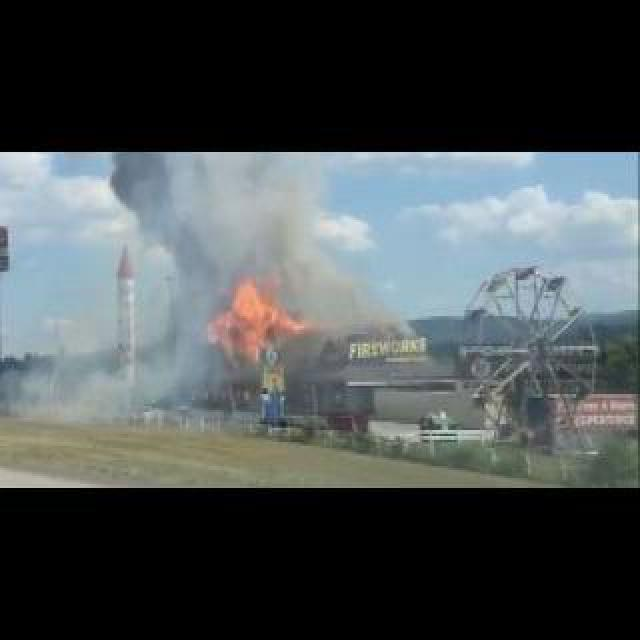Fire: (202, 280, 310, 354)
Smoke: (112, 160, 351, 322)
